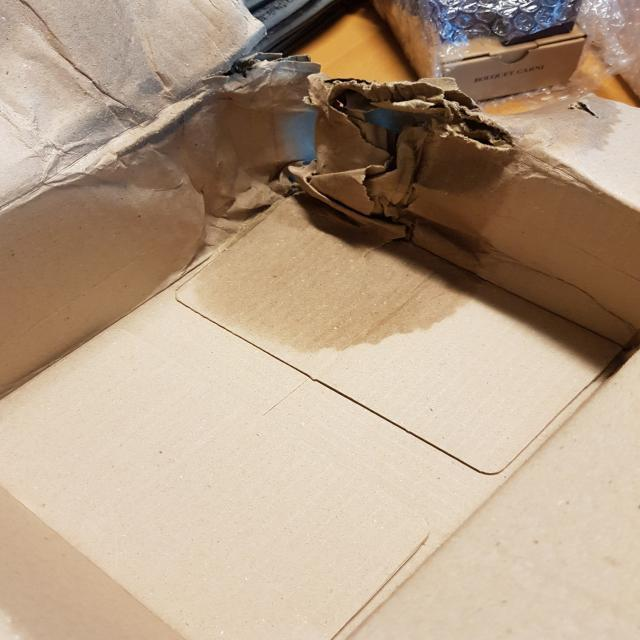wet: (166, 89, 504, 355)
